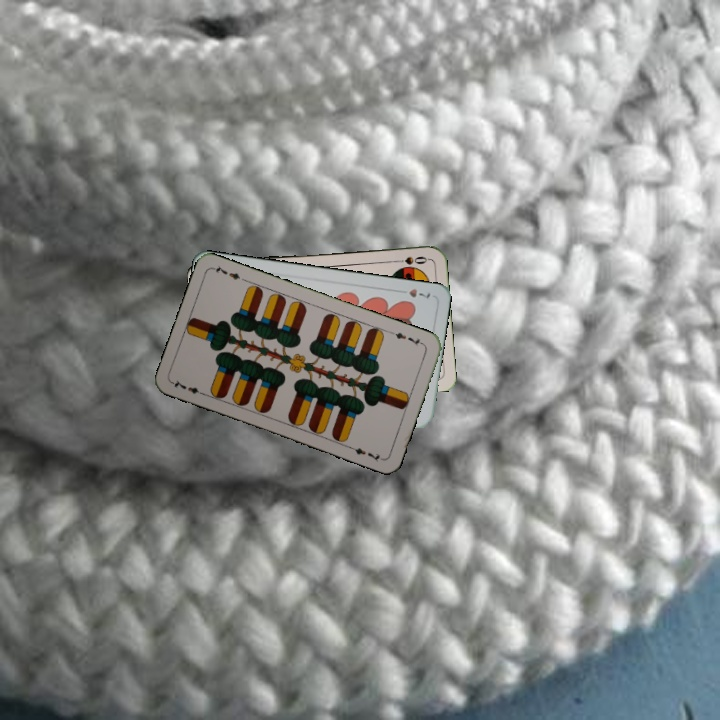E7: (387, 327, 427, 349), (169, 377, 208, 398)
H7: (394, 285, 433, 301)
SO: (390, 252, 431, 267)
